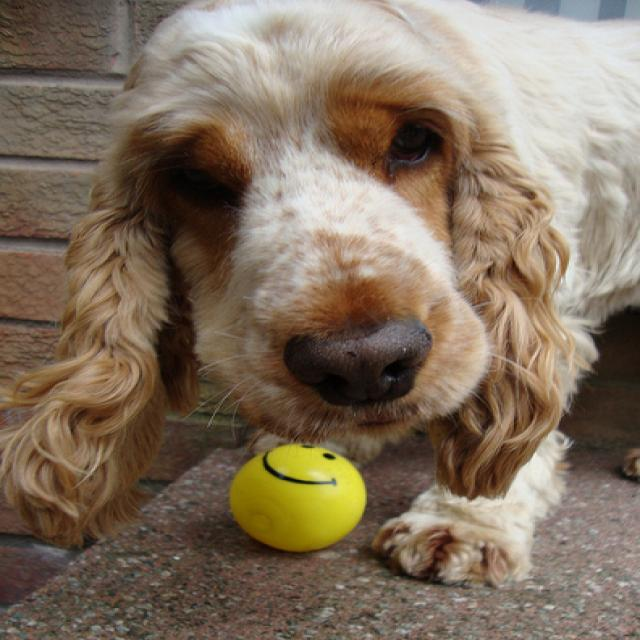dog-english_cocker_spaniel: (2, 1, 637, 595)
